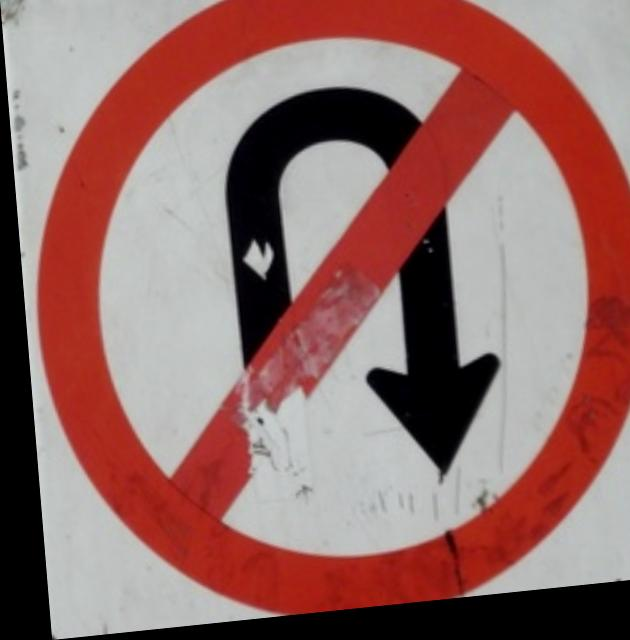not_u_turn_right: (34, 0, 630, 637)
